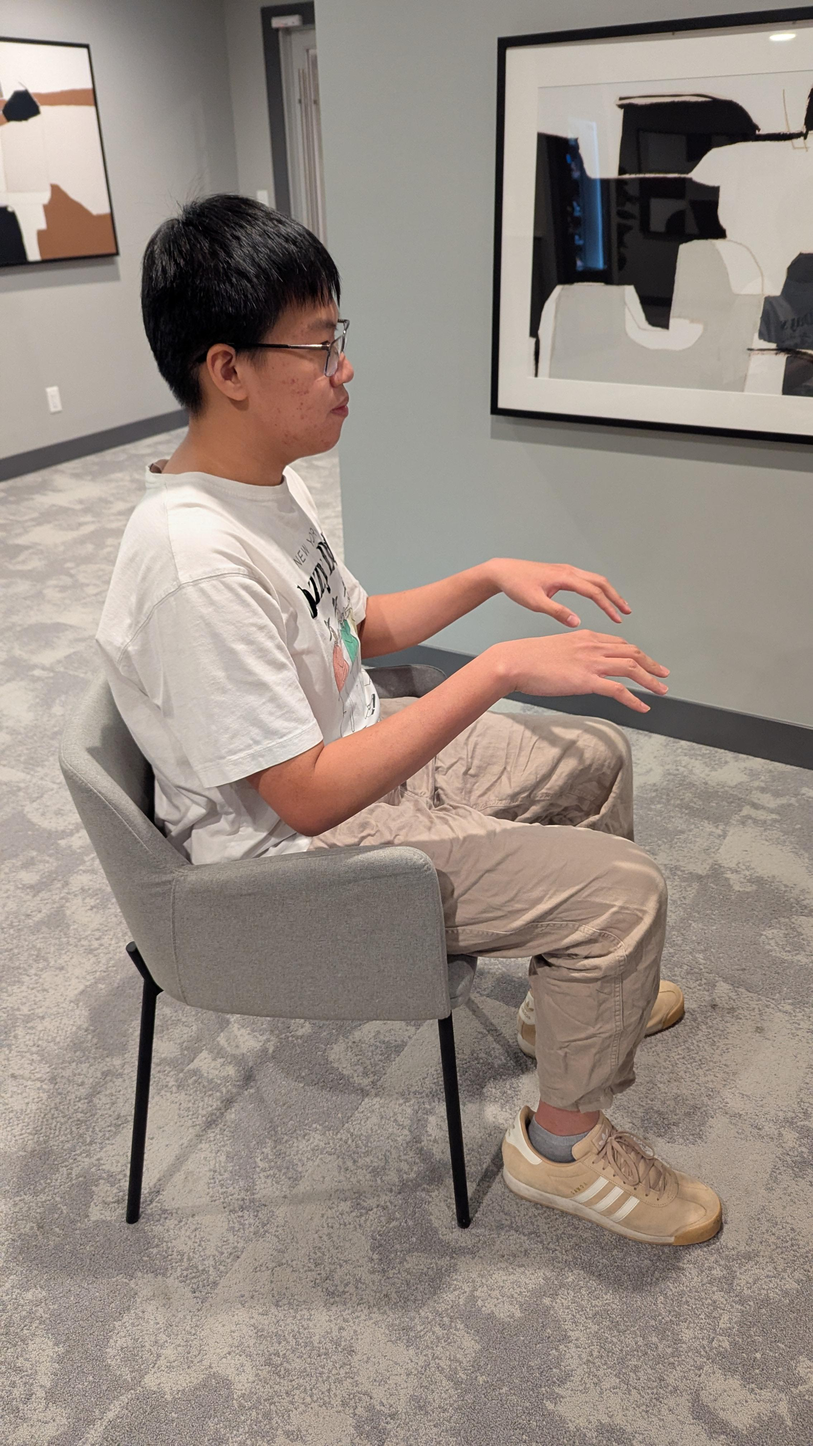GoodPosture: (94, 190, 721, 1246)
